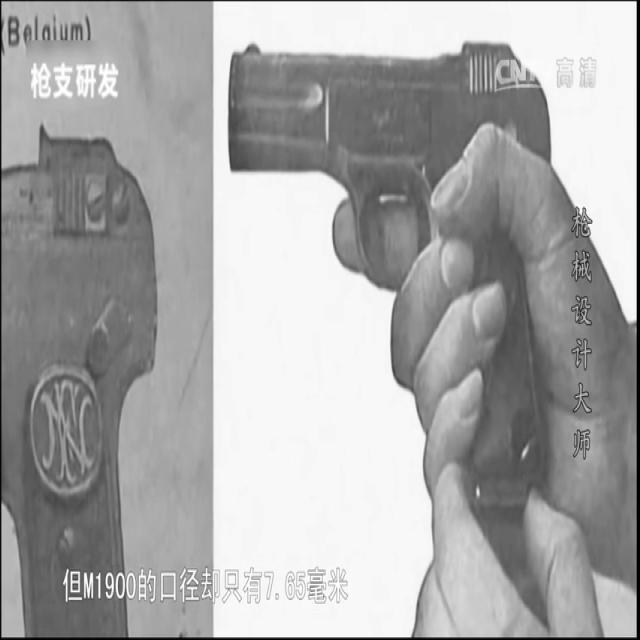Hand-Gun: (226, 36, 566, 549)
